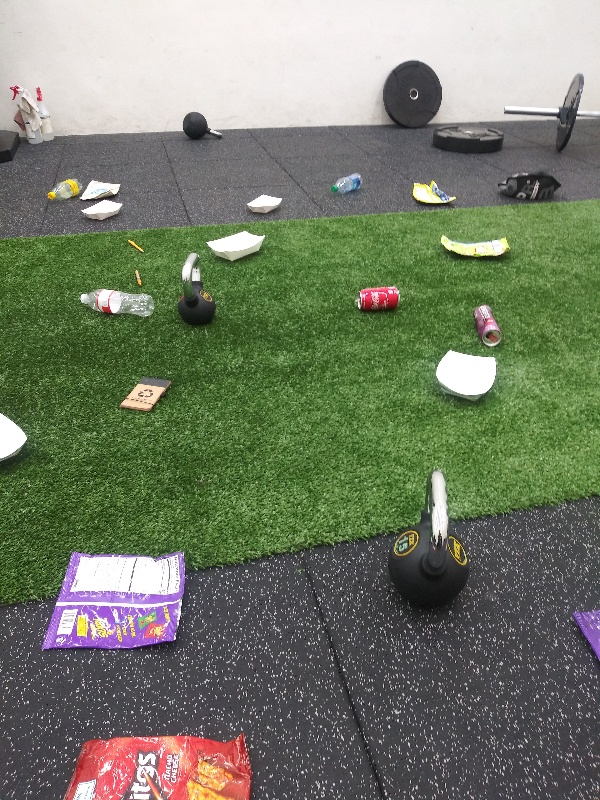bag: (37, 547, 192, 662), (61, 729, 258, 800), (438, 230, 513, 263), (571, 596, 600, 666), (412, 179, 459, 211), (75, 176, 123, 201)
bottle: (73, 287, 156, 321), (43, 175, 86, 205), (329, 172, 365, 194)
can: (468, 303, 508, 350), (353, 285, 408, 313)
plate: (426, 348, 504, 405), (200, 231, 269, 265), (1, 409, 30, 467), (79, 197, 129, 225), (243, 192, 285, 217)
